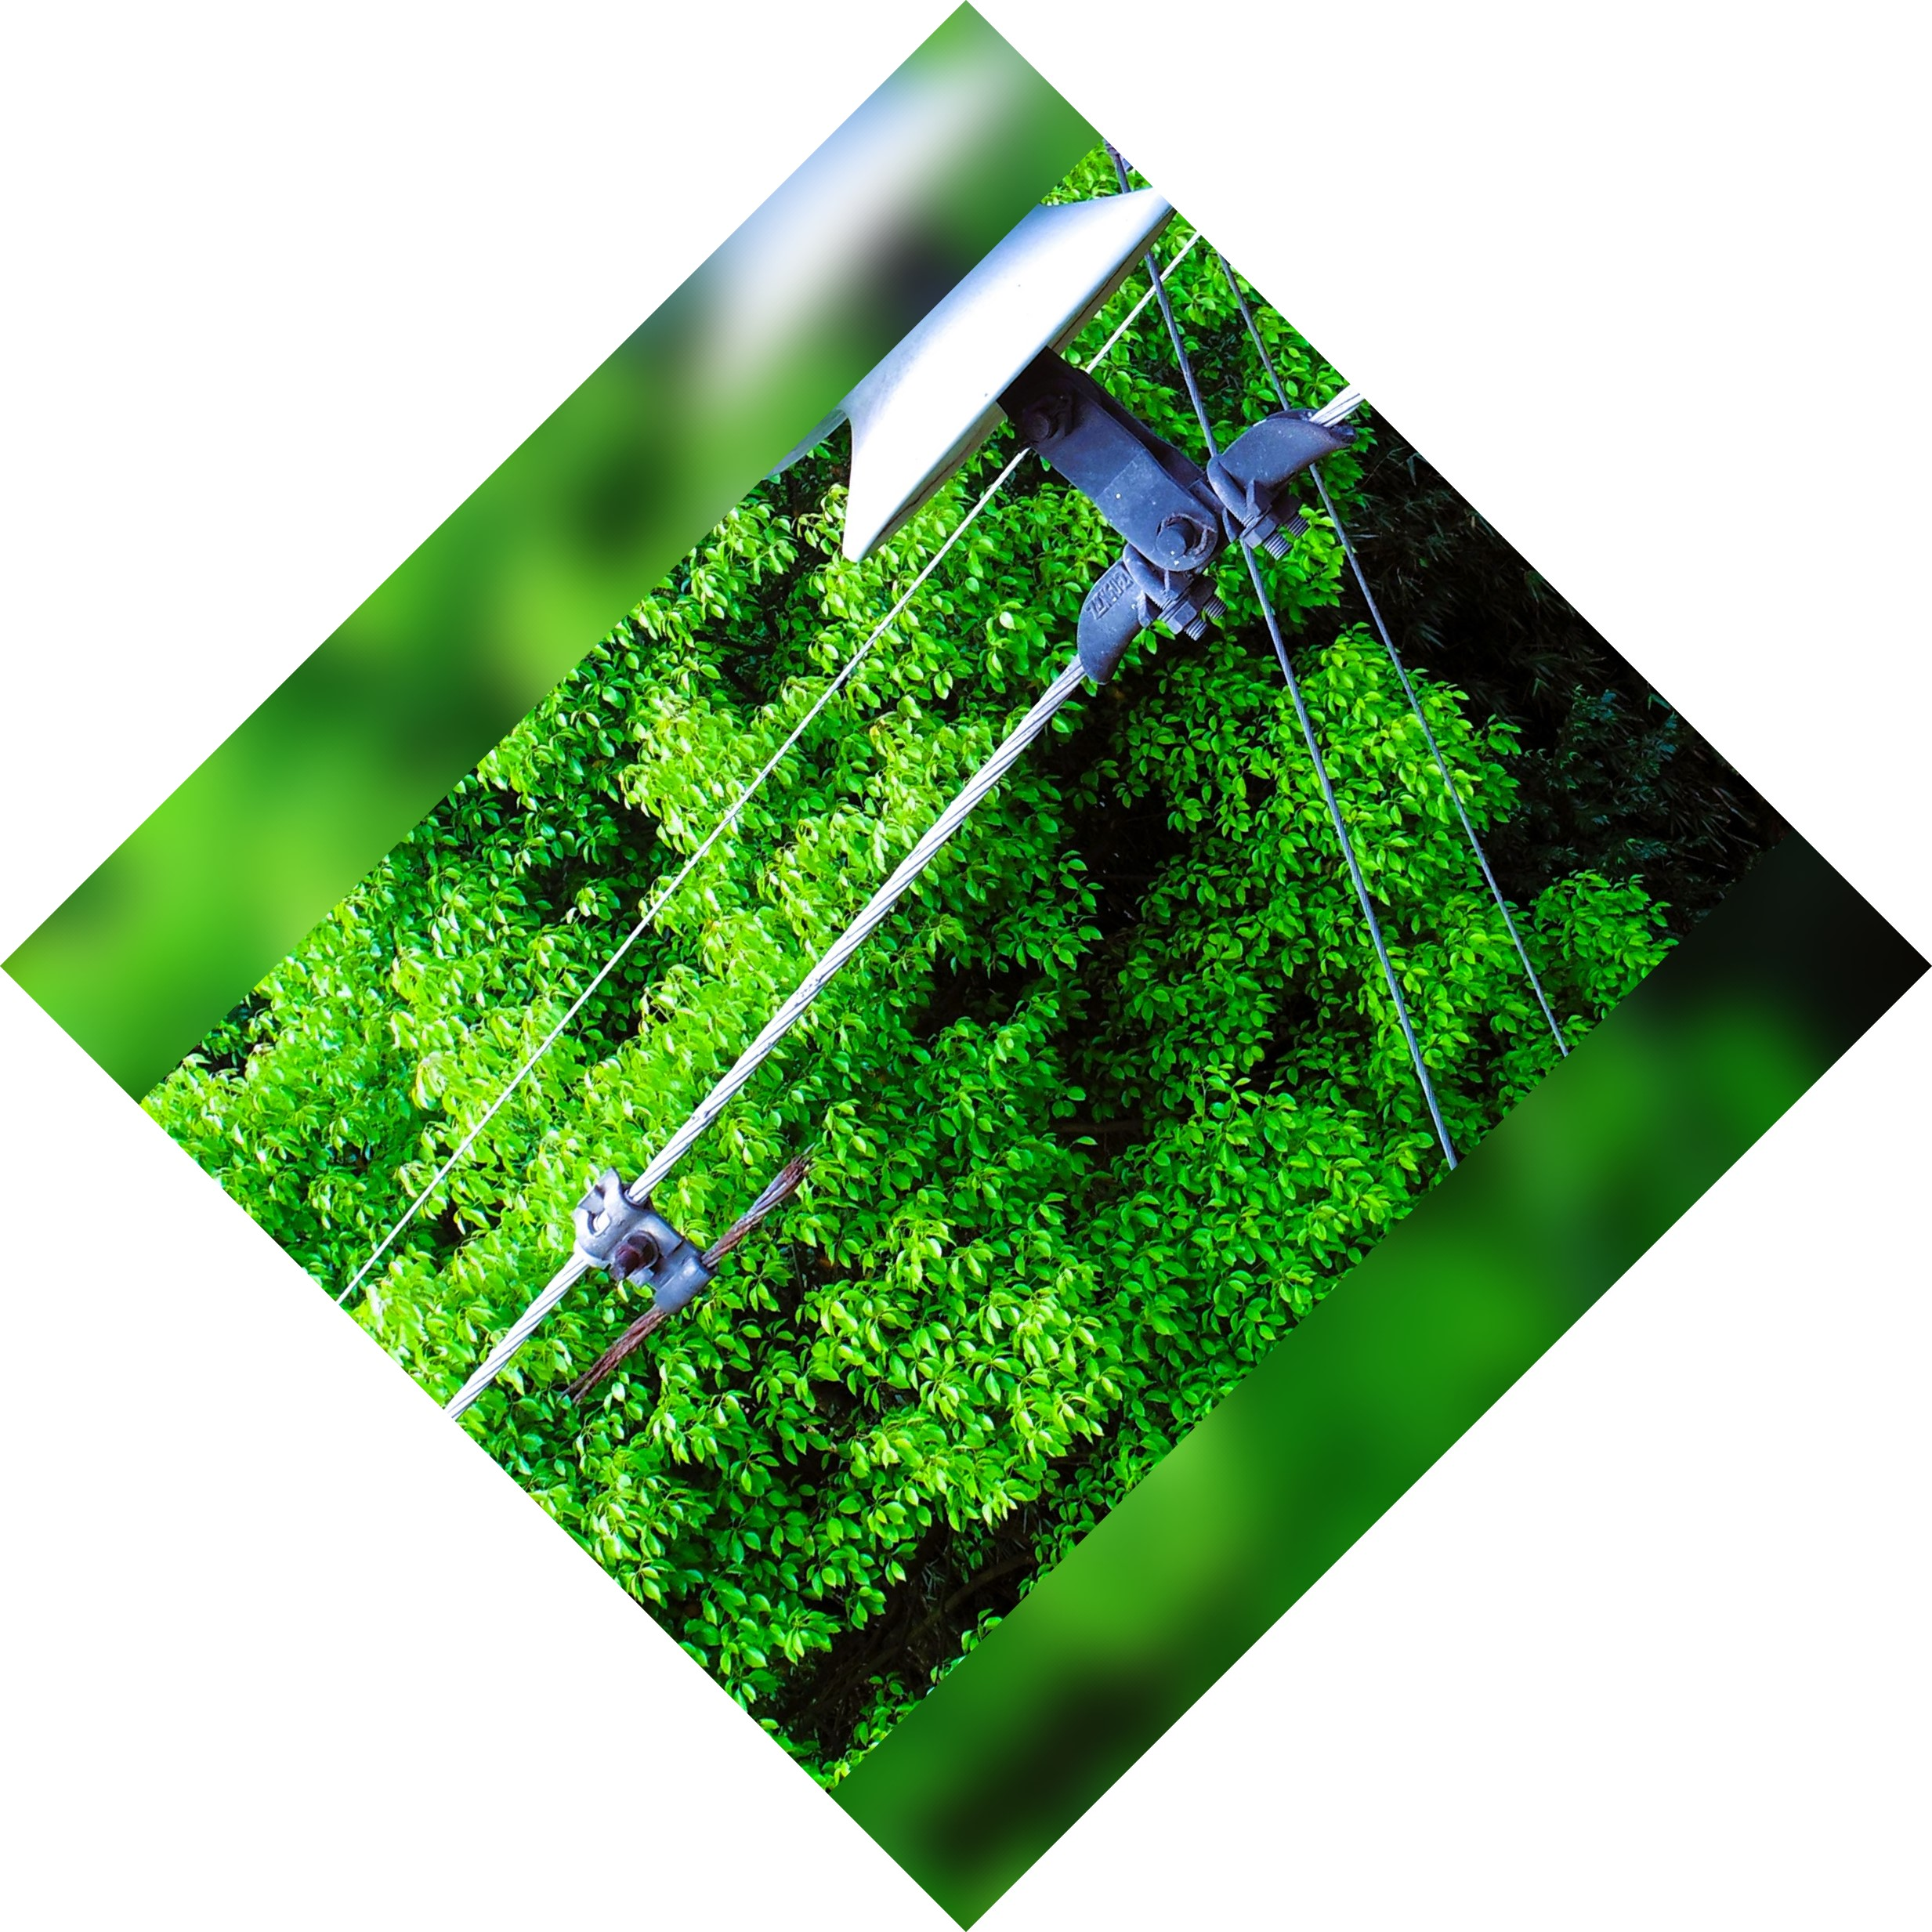Damage of shockproof hammer: (518, 1118, 830, 1421)
